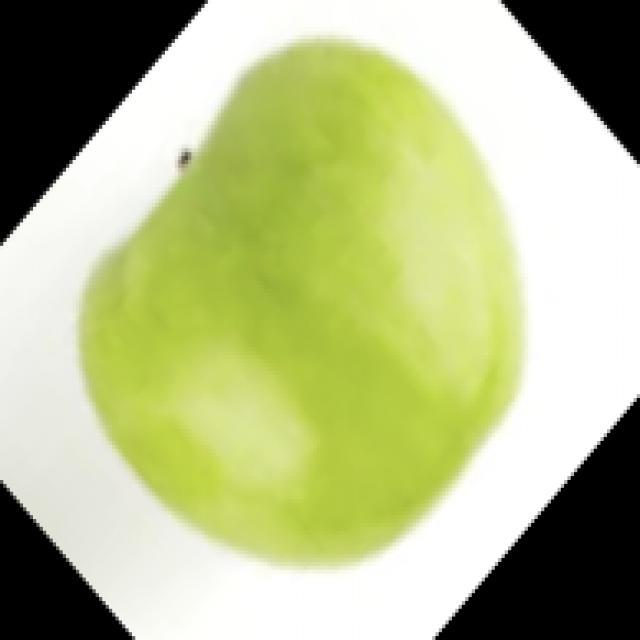Fresh Apple: (75, 35, 530, 578)
